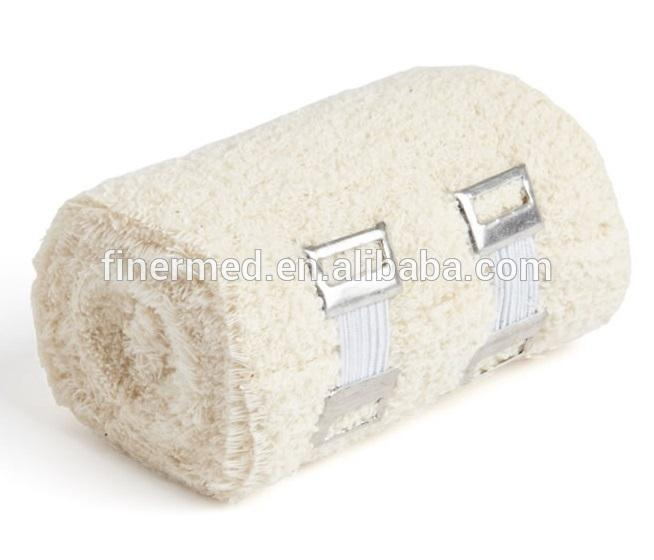bandage: (35, 66, 628, 505)
